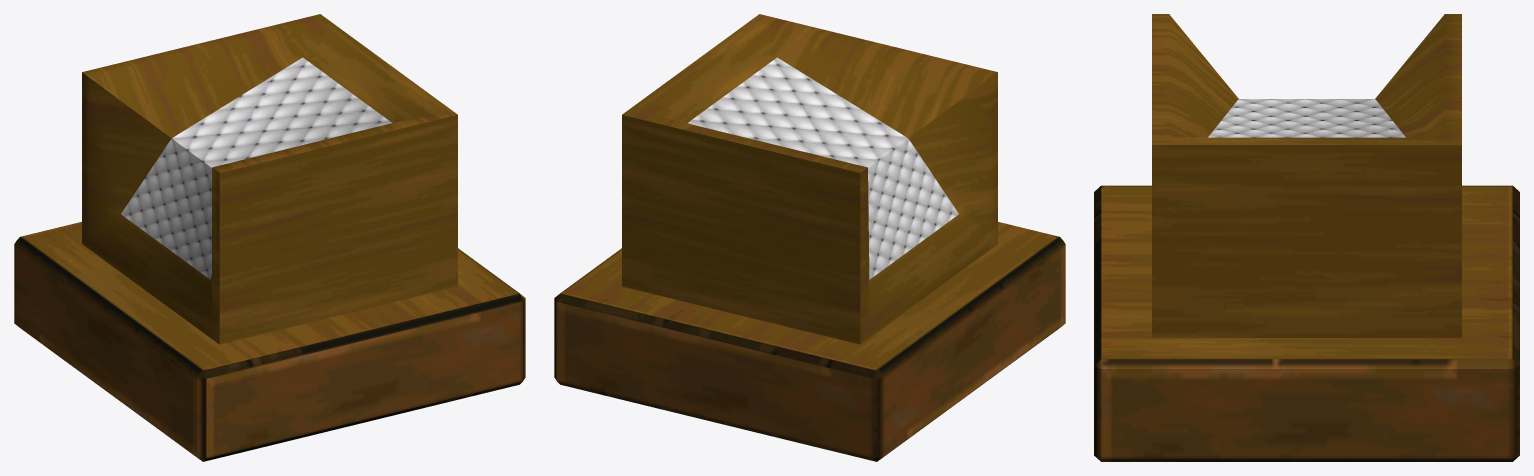
Rendered from Seat.obj.
The picture shows the model from 3 angles, left to right: view 1: azimuth 30°, elevation 25°; view 2: azimuth 150°, elevation 25°; view 3: azimuth 270°, elevation 25°; orthographic projection. The views are drawn at different scales.
Parts seen in each view (by area): view 1: Seat; view 2: Seat; view 3: Seat.
Boxes of the visible parts, bbox=[...] form: Seat: bbox=[14, 14, 525, 461]; Seat: bbox=[554, 14, 1065, 461]; Seat: bbox=[1094, 14, 1519, 461].
Bounding box in the file's own units: 16 × 12.25 × 16.
1 material, 1 textured.
